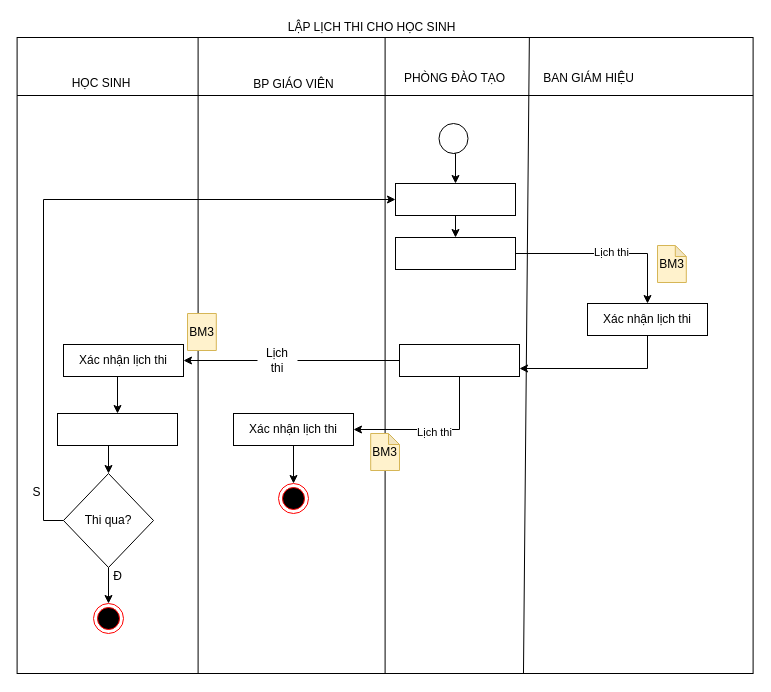
The diagram is 771 pixels wide and 692 high, and some of its shapes have lost their labels. Here are the shapes that lost their labels. From the top down, the centre of each, then its label:
At [455,199]: "Lập lịch thi".
At [455,253]: "Báo cáo với ban giám hiệu".
At [459,360]: "Thông báo với thành phần liên quan".
At [117,429]: "Tham gia thi".
